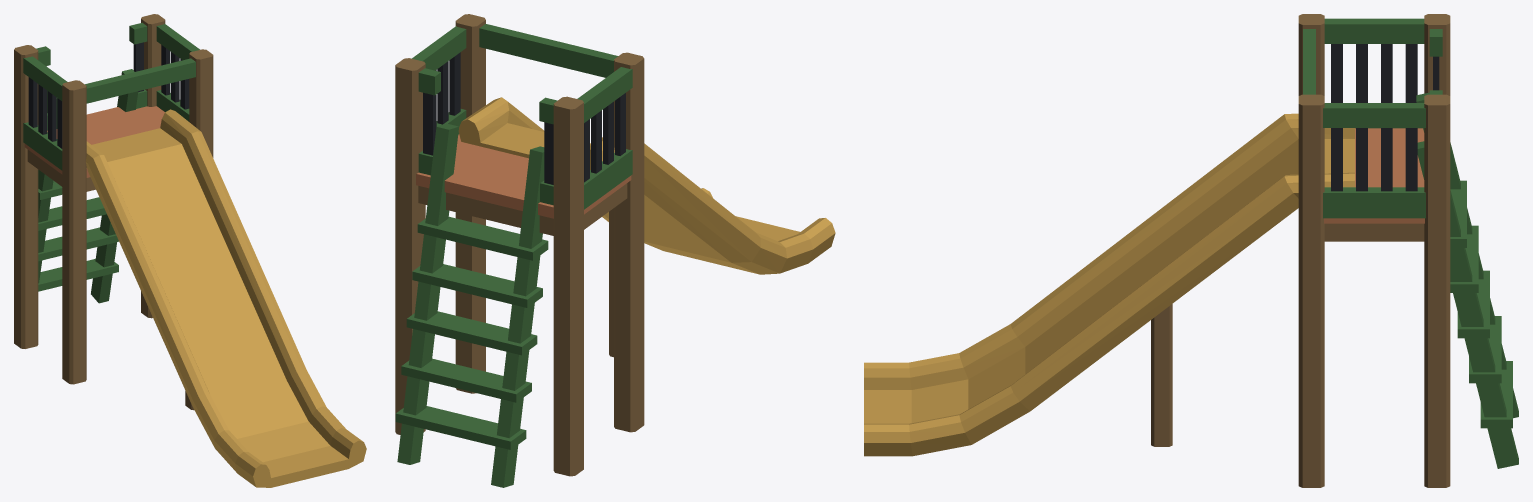
File: playground-slide-8b764c.glb
3 renders of one model, left to right at view 1: azimuth 30°, elevation 25°; view 2: azimuth 150°, elevation 25°; view 3: azimuth 270°, elevation 25°, orthographic. The views are drawn at different scales.
Bounding box in the file's own units: 1 × 1.95 × 3.02.
